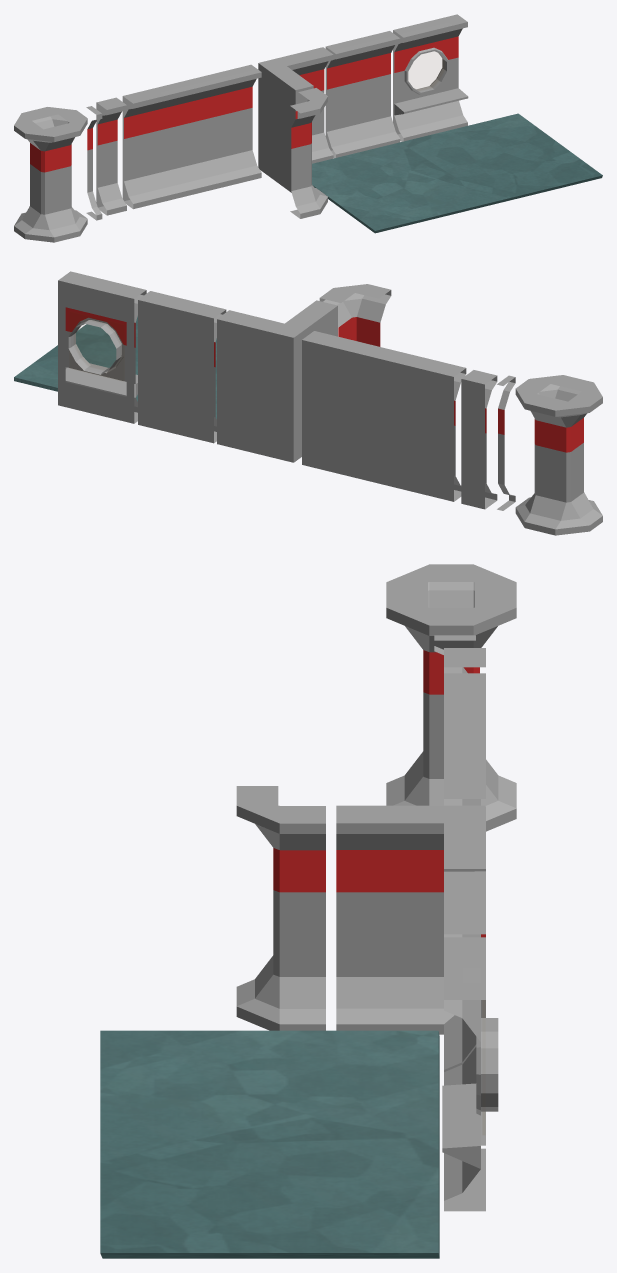
The model's file is Ship_Untextured_Models.fbx.
3 renders of one model, top to bottom at view 1: azimuth 30°, elevation 25°; view 2: azimuth 150°, elevation 25°; view 3: azimuth 270°, elevation 25°, orthographic. The views are drawn at different scales.
Parts seen in each view (by area): view 1: Floor, Longwall, Wall, Pillar5, Window_Wall, CornerR_R, Pillar4, Pillar, Wall1; view 2: Longwall, CornerR_R, Wall, Pillar5, Window_Wall, Pillar, Pillar4, Floor, Wall1; view 3: Floor, CornerR_R, Pillar4, Pillar5, Window_Wall, Longwall, Wall, Pillar.
Boxes of the visible parts, left/top/right/bottom form: Floor: left=312, top=113, right=602, bottom=233; Longwall: left=122, top=64, right=261, bottom=209; Wall: left=325, top=31, right=400, bottom=158; Pillar5: left=14, top=107, right=87, bottom=242; Window_Wall: left=393, top=14, right=468, bottom=141; CornerR_R: left=258, top=47, right=333, bottom=192; Pillar4: left=290, top=88, right=327, bottom=218; Pillar: left=96, top=97, right=126, bottom=215; Wall1: left=86, top=106, right=102, bottom=220; Longwall: left=302, top=331, right=466, bottom=501; CornerR_R: left=217, top=300, right=337, bottom=462; Wall: left=138, top=291, right=226, bottom=443; Pillar5: left=515, top=375, right=602, bottom=535; Window_Wall: left=58, top=271, right=146, bottom=423; Pillar: left=461, top=370, right=497, bottom=509; Pillar4: left=319, top=284, right=391, bottom=346; Floor: left=14, top=316, right=216, bottom=419; Wall1: left=497, top=375, right=515, bottom=510; Floor: left=100, top=1030, right=439, bottom=1258; CornerR_R: left=336, top=805, right=485, bottom=1071; Pillar4: left=236, top=786, right=325, bottom=1030; Pillar5: left=386, top=564, right=516, bottom=831; Window_Wall: left=442, top=937, right=498, bottom=1211; Longwall: left=444, top=673, right=485, bottom=805; Wall: left=444, top=871, right=485, bottom=1145; Pillar: left=444, top=648, right=485, bottom=673.
Size of the model in its own units: 1156 by 236 by 421.
